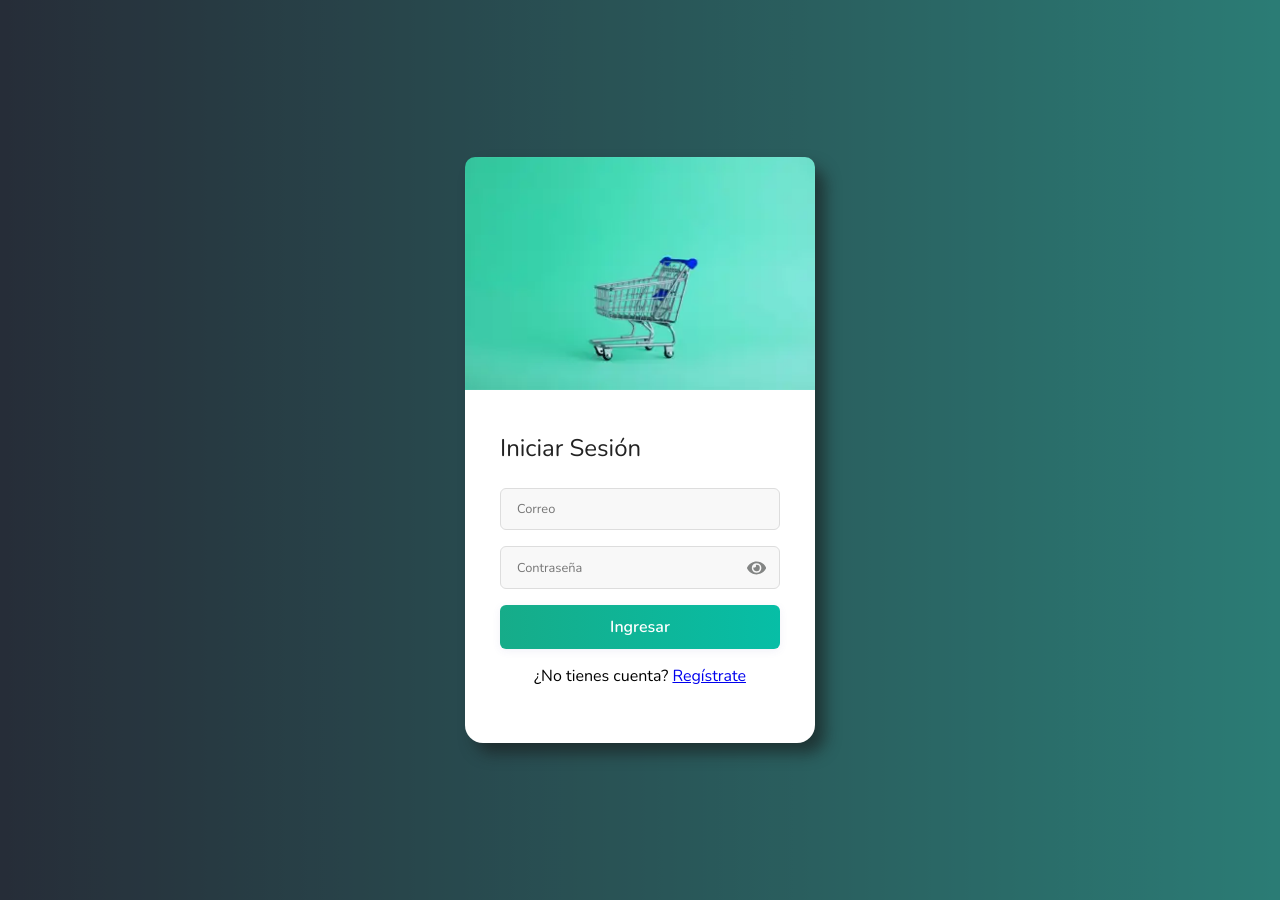
Test: Login Component › debe mostrar un mensaje de error con credenciales incorrectas
Simular el envío del formulario.
Type "test@example.com" into the field with placeholder "Correo".
click(640, 509); type("test@example.com")  # box [500, 488, 780, 530]
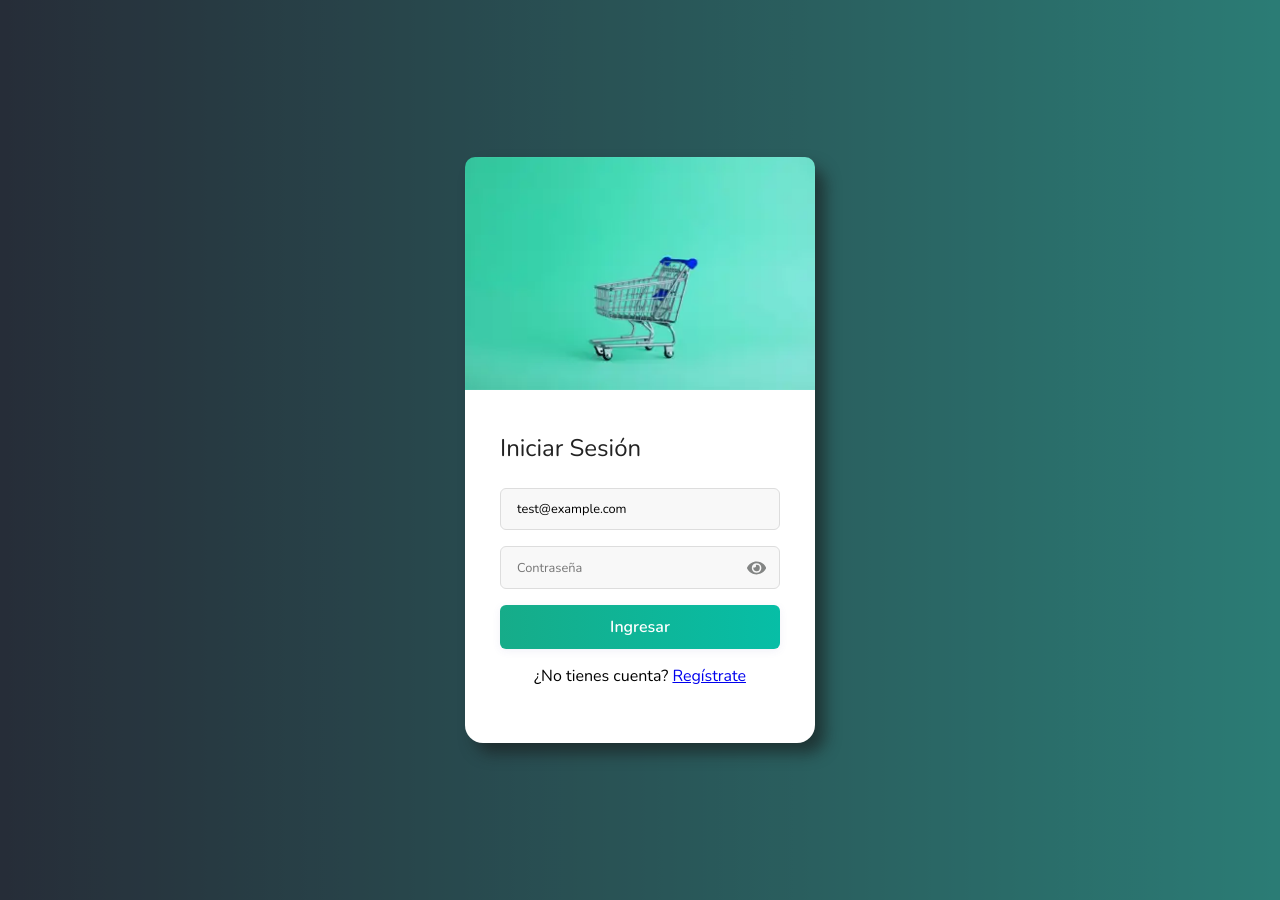
Type "wrongpassword" into the password field with placeholder "Contraseña".
click(640, 568); type("wrongpassword")  # box [500, 546, 780, 589]
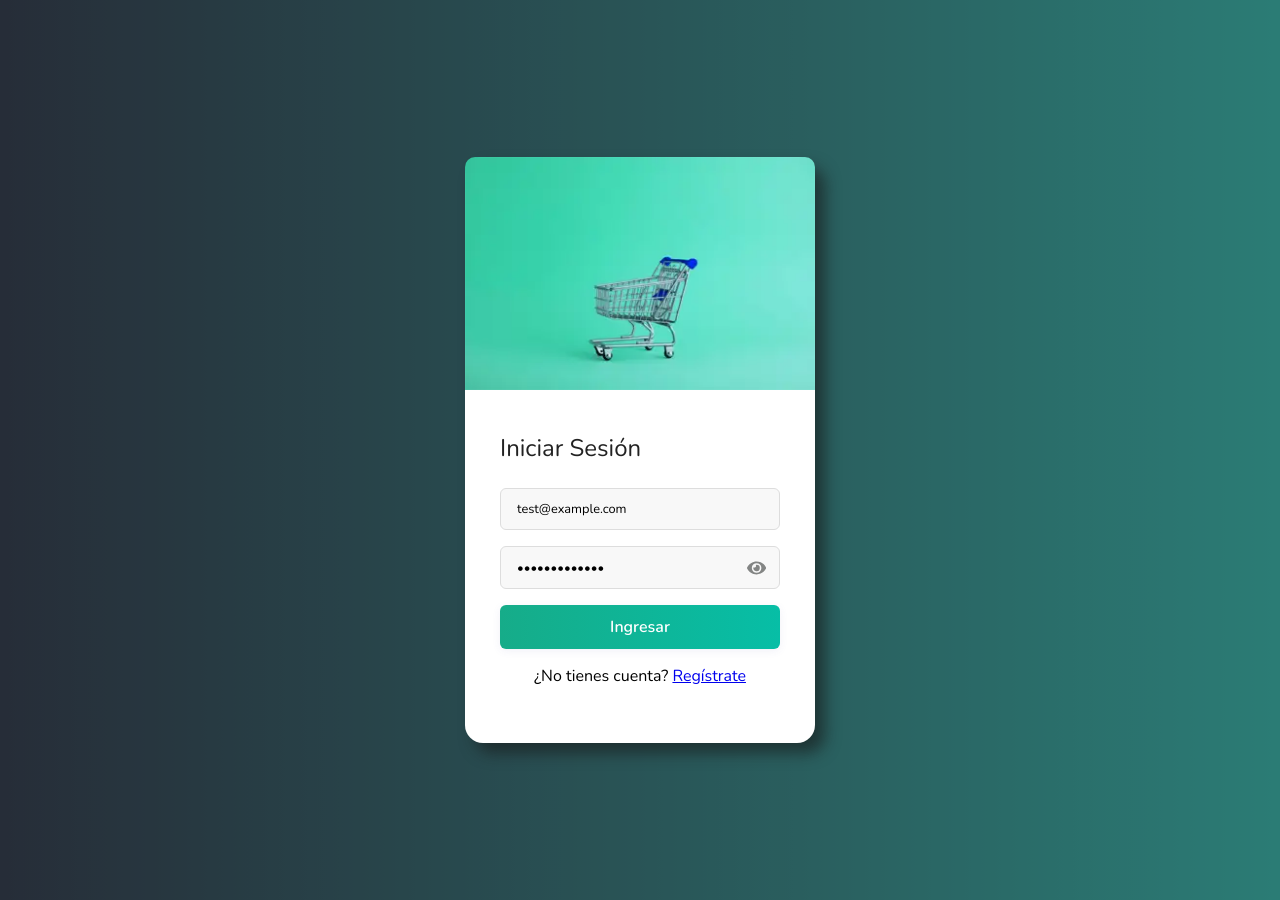
Click the button "Ingresar".
click(640, 627)  # box [500, 605, 780, 649]
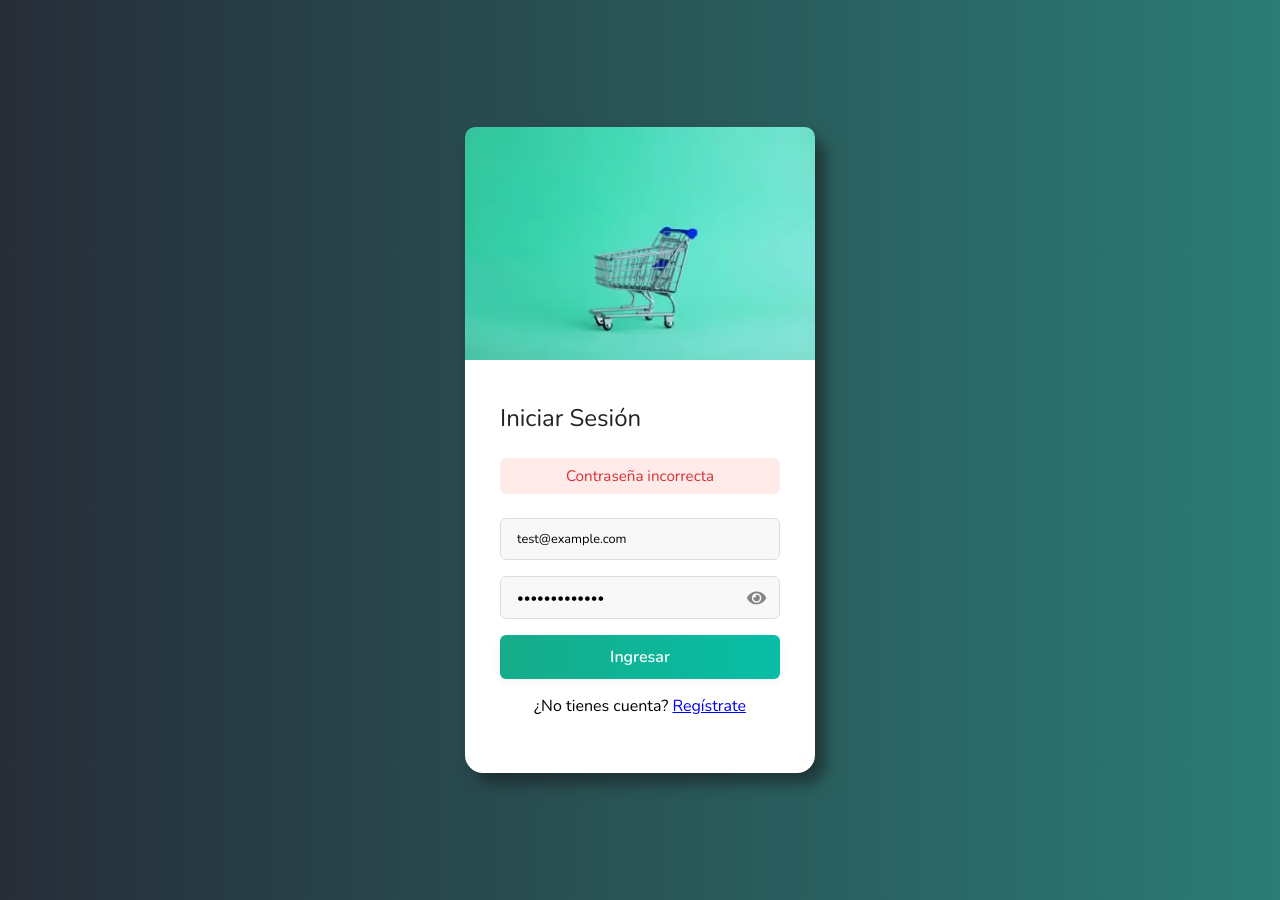
Now the text "Contraseña incorrecta" is shown, box [500, 458, 780, 494]
